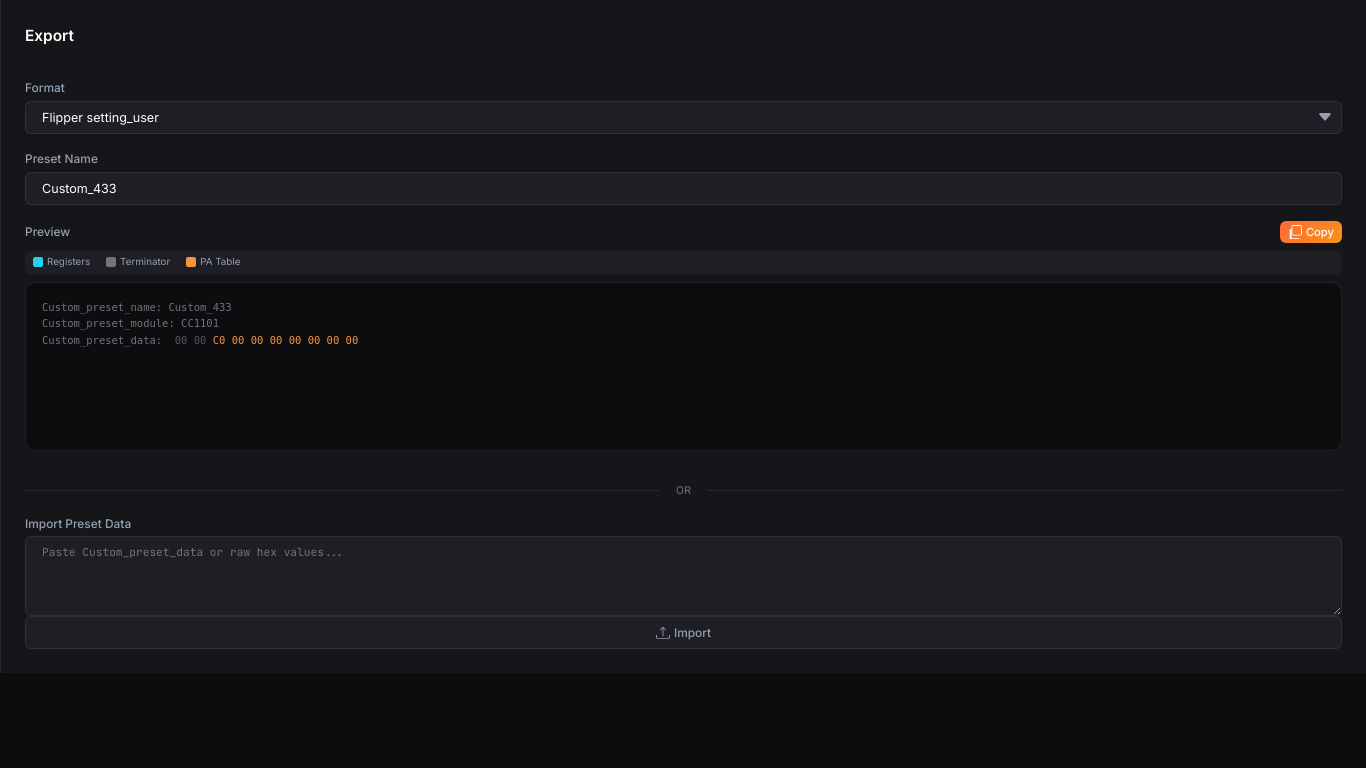
Test: ExportPanel Component › updates preset name when input changes
Replace the text in the field labelled "Preset Name" with "MyPreset_868": {"x": 684, "y": 188} [25,172,1342,205]
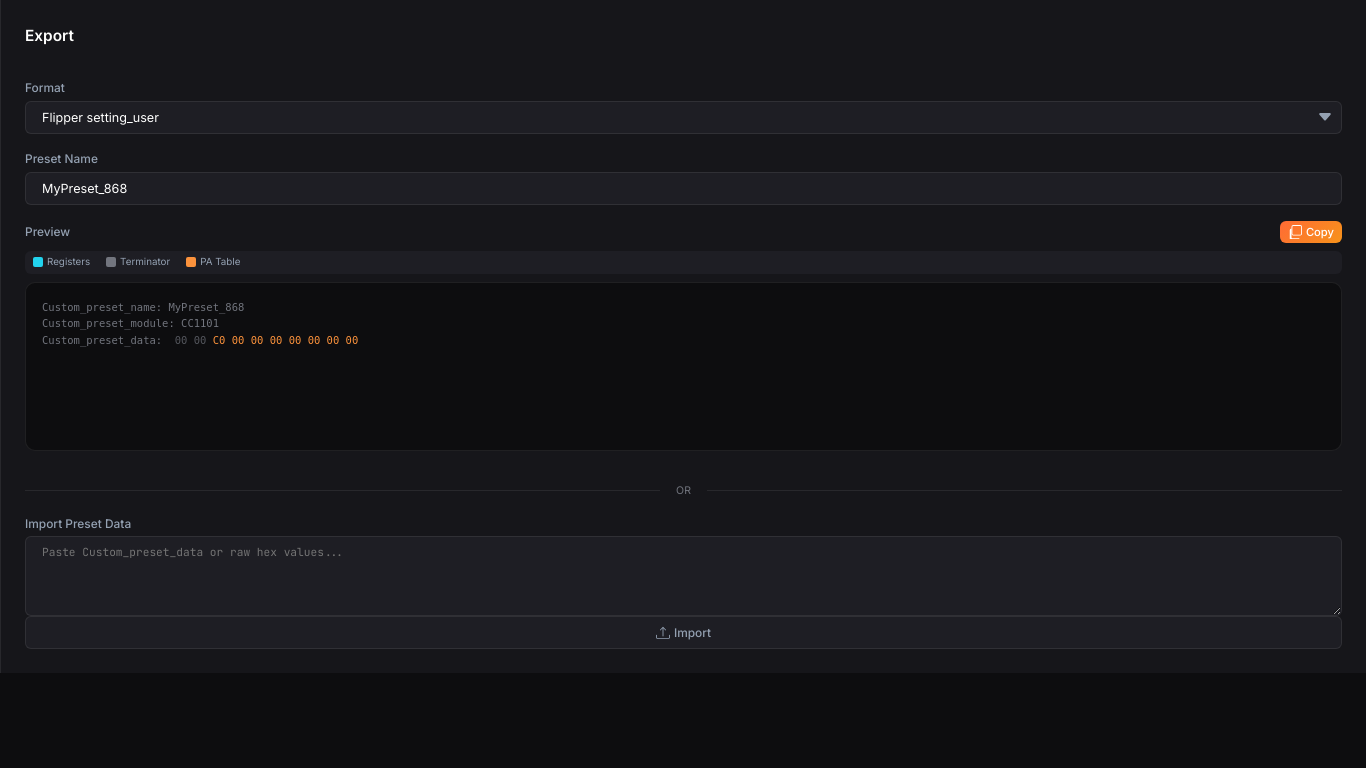
Result: the element that starts with "Custom_preset_name:" shows "MyPreset_868" at [168,300,244,312]
